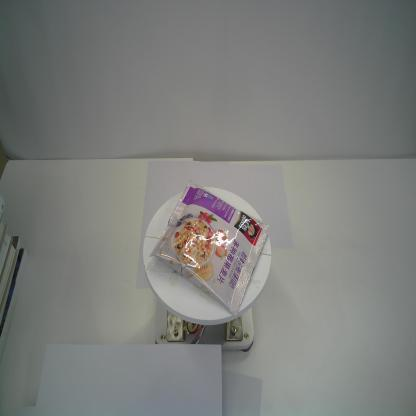Instant Drink: (149, 178, 270, 316)
